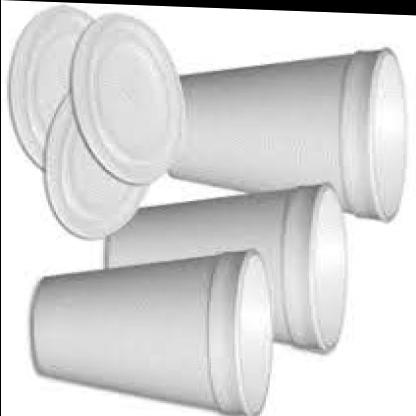Miscellaneous: (6, 1, 175, 242)
Plastic: (27, 249, 294, 408), (188, 37, 410, 218), (184, 183, 376, 361)
